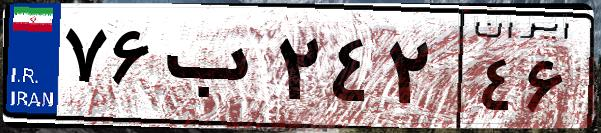2: (270, 28, 330, 110), (385, 28, 445, 110)
4: (330, 28, 385, 110), (475, 38, 525, 113)
6: (525, 38, 570, 115), (110, 28, 158, 98)
7: (57, 26, 110, 100)
ب: (158, 20, 270, 120)
